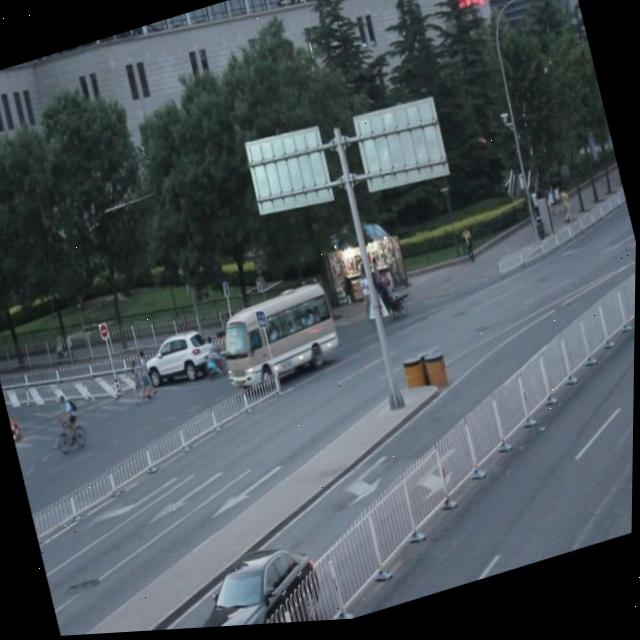car: (184, 537, 333, 631), (140, 326, 217, 396)
truck: (215, 284, 343, 395)
